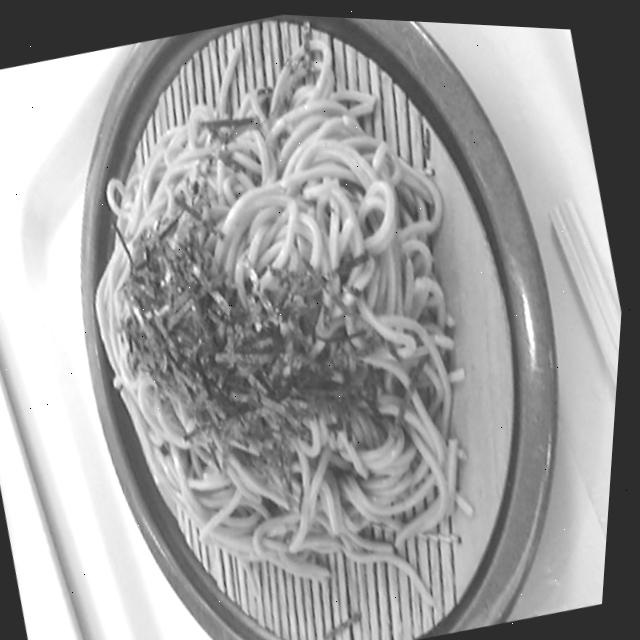面条主食: (16, 2, 557, 640)
